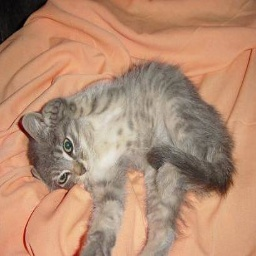cat: (19, 63, 234, 256)
